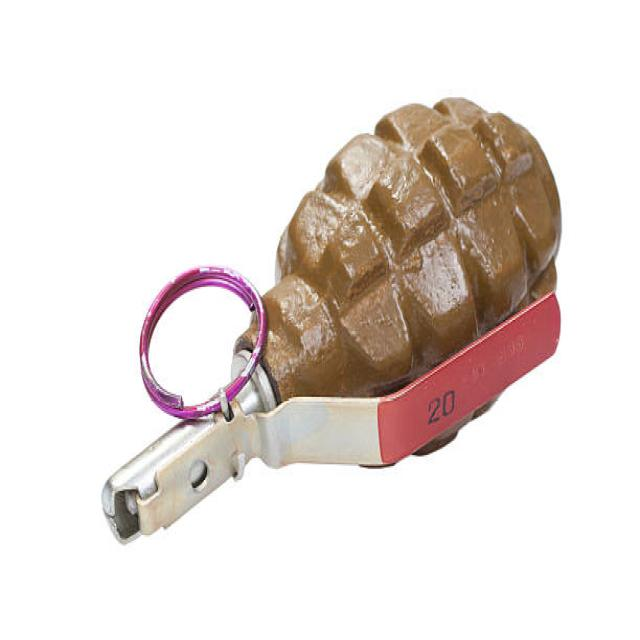grenade: (93, 91, 573, 559)
